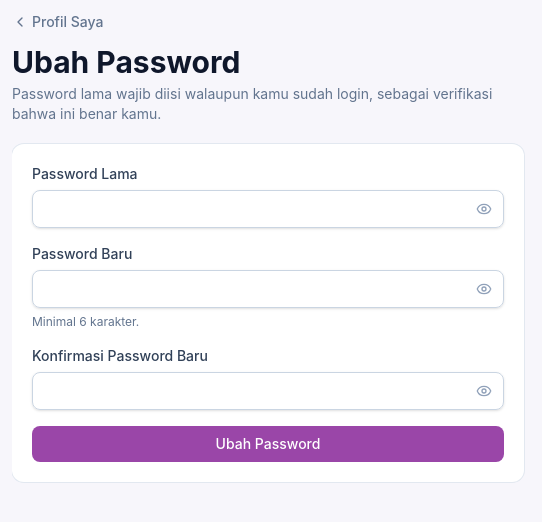
Test: ChangePasswordPage › menolak konfirmasi yang tidak sama tanpa memanggil API
Type "rahasia123" into the password field labelled "Password Lama" at coordinates (268, 209), box [32,190,504,228]
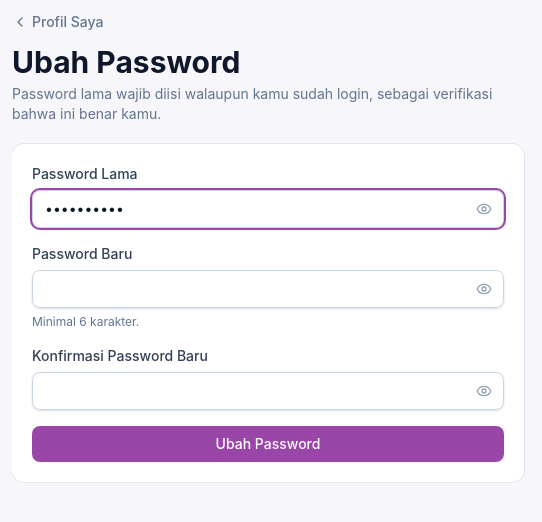
Type "rahasiabaru" into the password field labelled "Password Baru" at coordinates (268, 289), box [32,270,504,308]
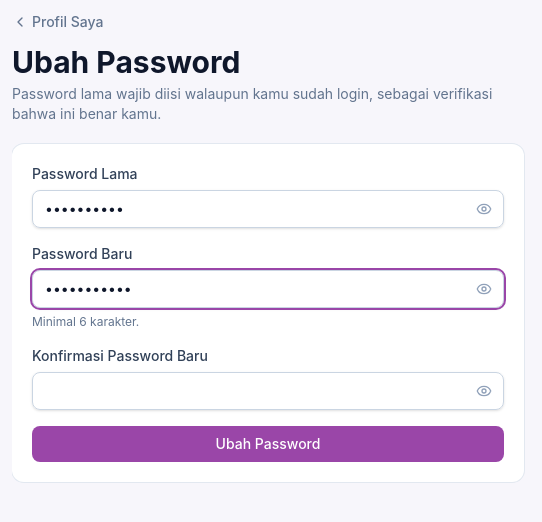
Type "salah-ketik" into the password field labelled "Konfirmasi Password Baru" at coordinates (268, 391), box [32,372,504,410]
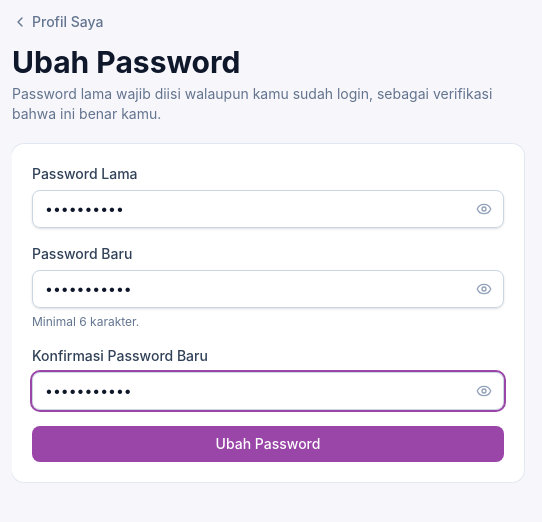
Click the button "Ubah Password" at coordinates (268, 444), box [32,426,504,462]
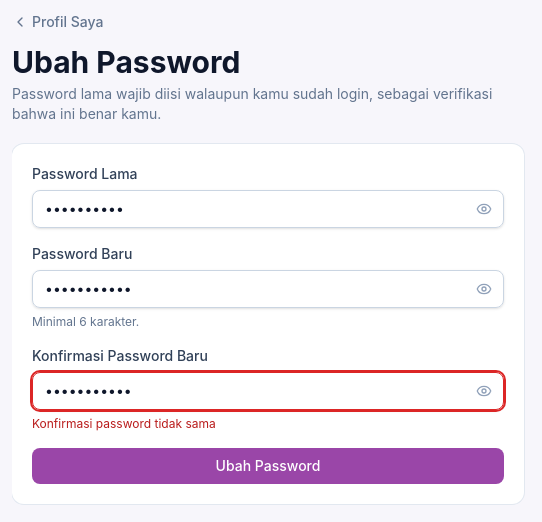
Result: the text "Konfirmasi password tidak sama" is shown at [32,416,216,431]
